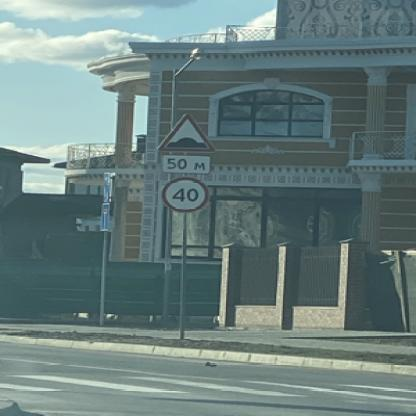Speed Limit 40: (164, 176, 209, 212)
